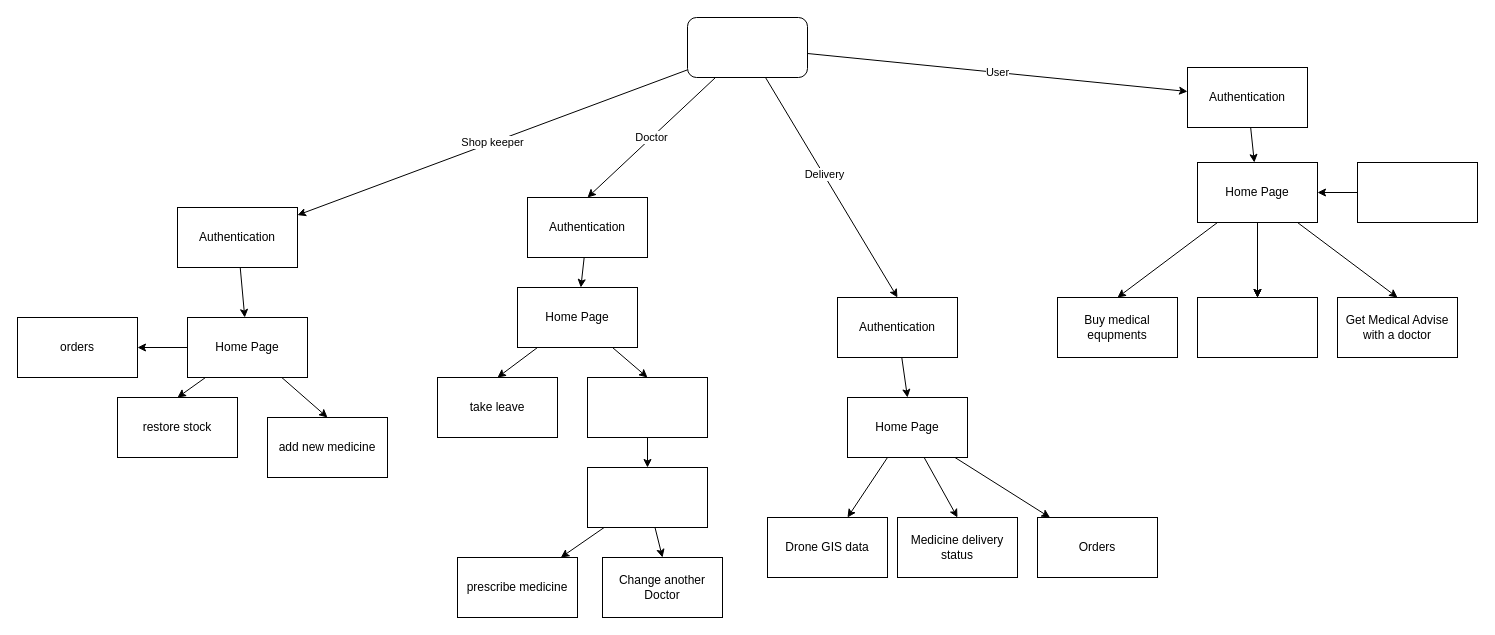
Image size: 1495x635. Some labels were removed from this diagram. Here are the shapes that lost their labels. From the top down, the box of each, then its label:
(686, 16, 808, 78): Application
(1356, 162, 1478, 222): Fitness Data from google fit
(1196, 296, 1318, 358): Buy medicine
(586, 376, 708, 438): Accept appointment
(586, 466, 708, 528): Diagnise
